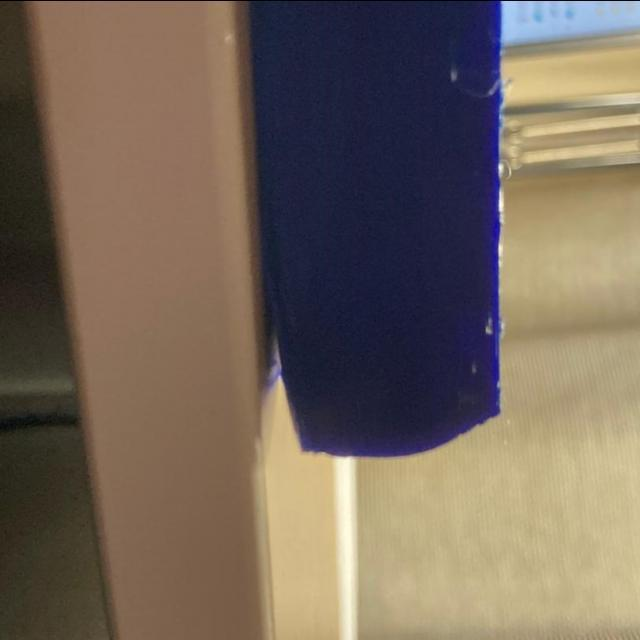Warping: (275, 330, 316, 460)
